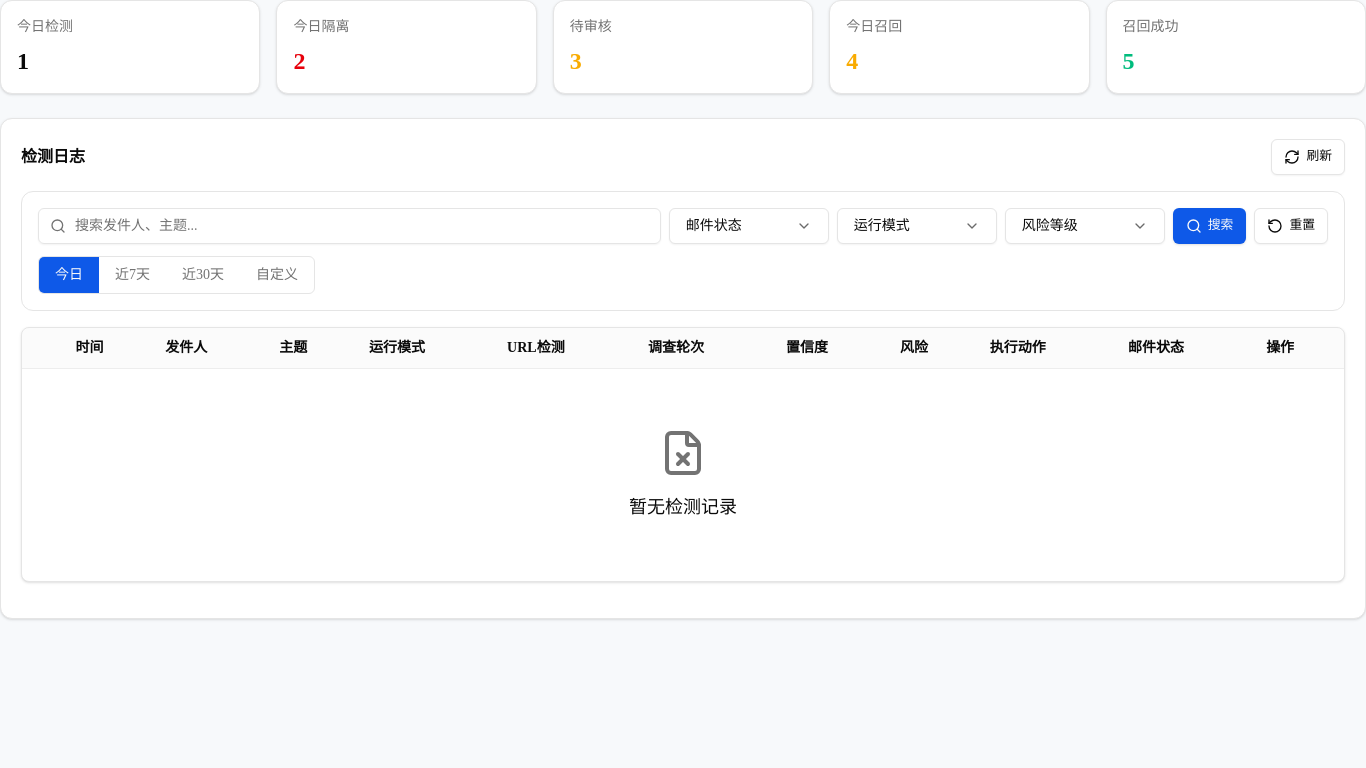
Test: PhishingOverviewPage › filters undecided risks alongside known levels and clears them on reset
Click the button "风险等级" at (1085, 226), box [1005,208,1165,244]
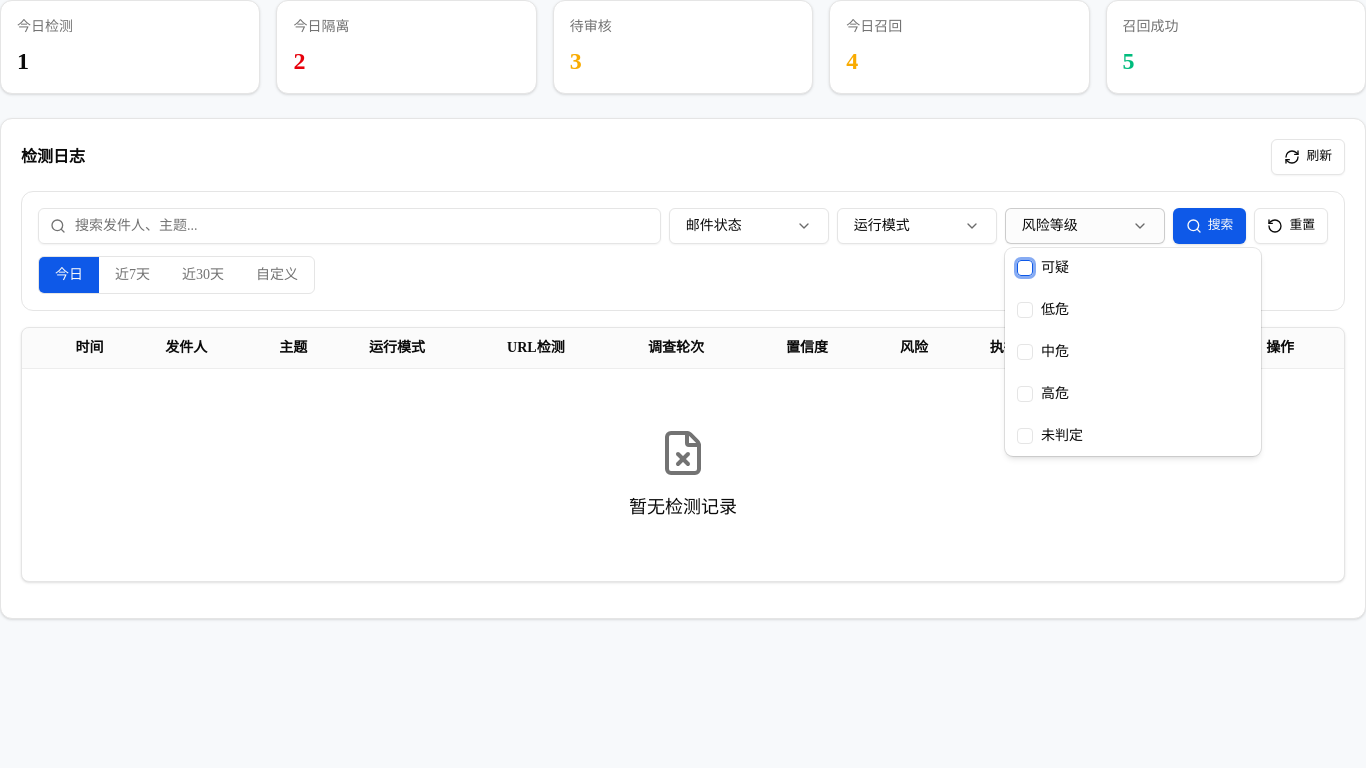
Click the text "未判定" at (1062, 436), box [1041,428,1083,443]
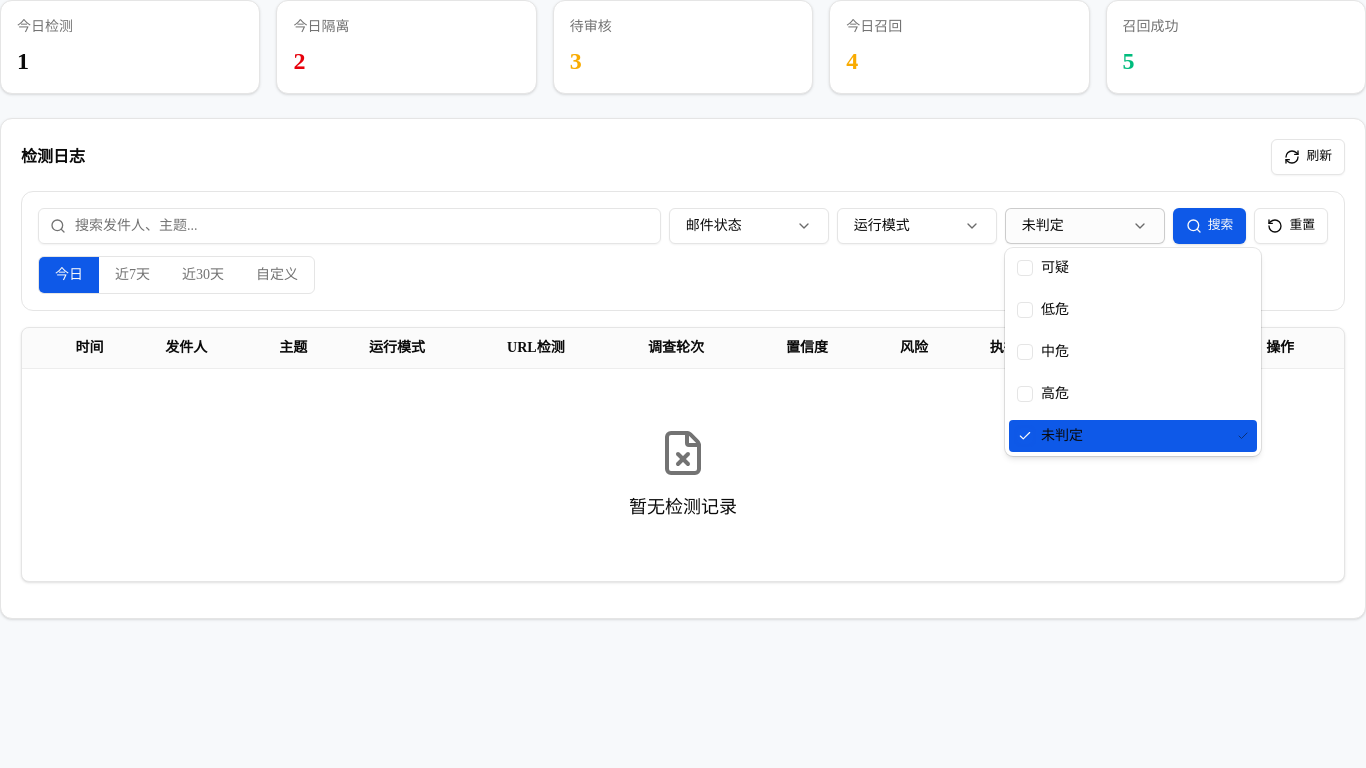
Click the text "高危" at (1055, 394), box [1041,386,1069,401]
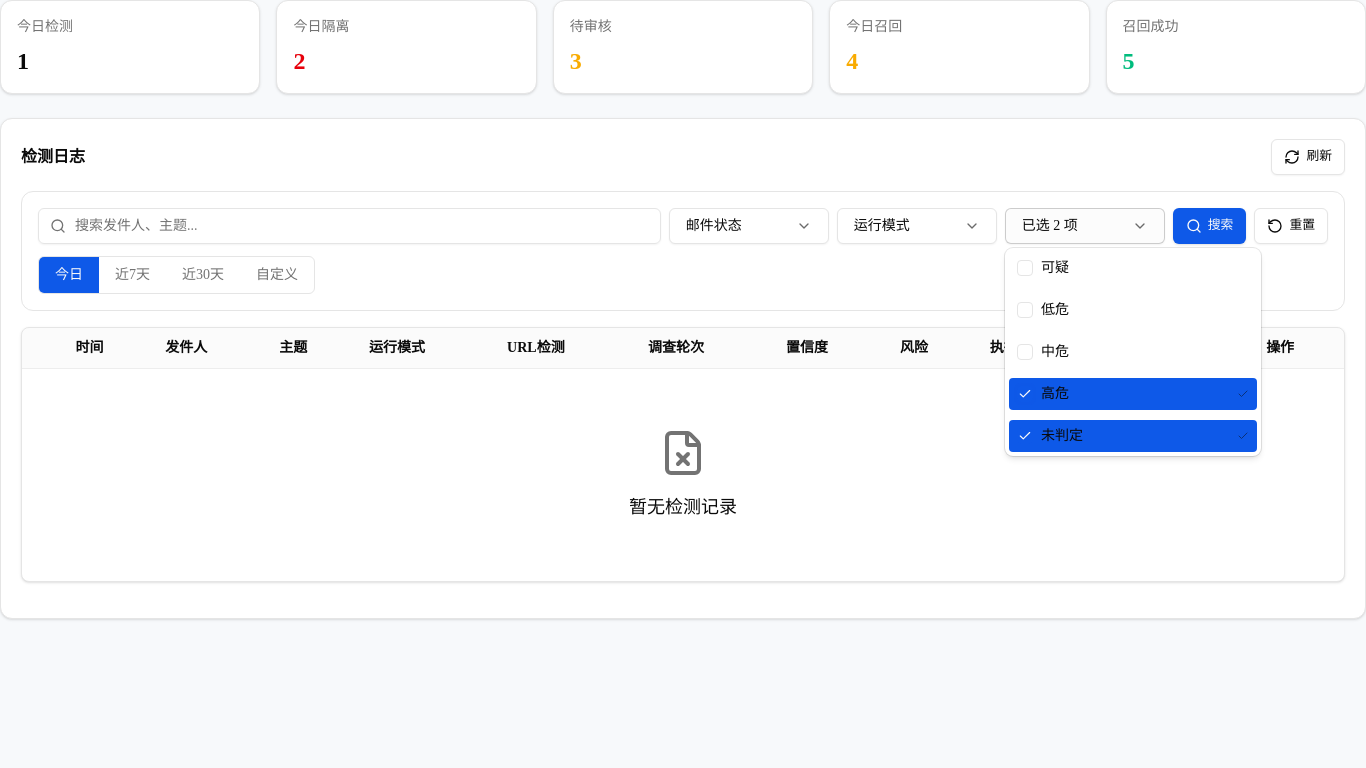
Press Escape
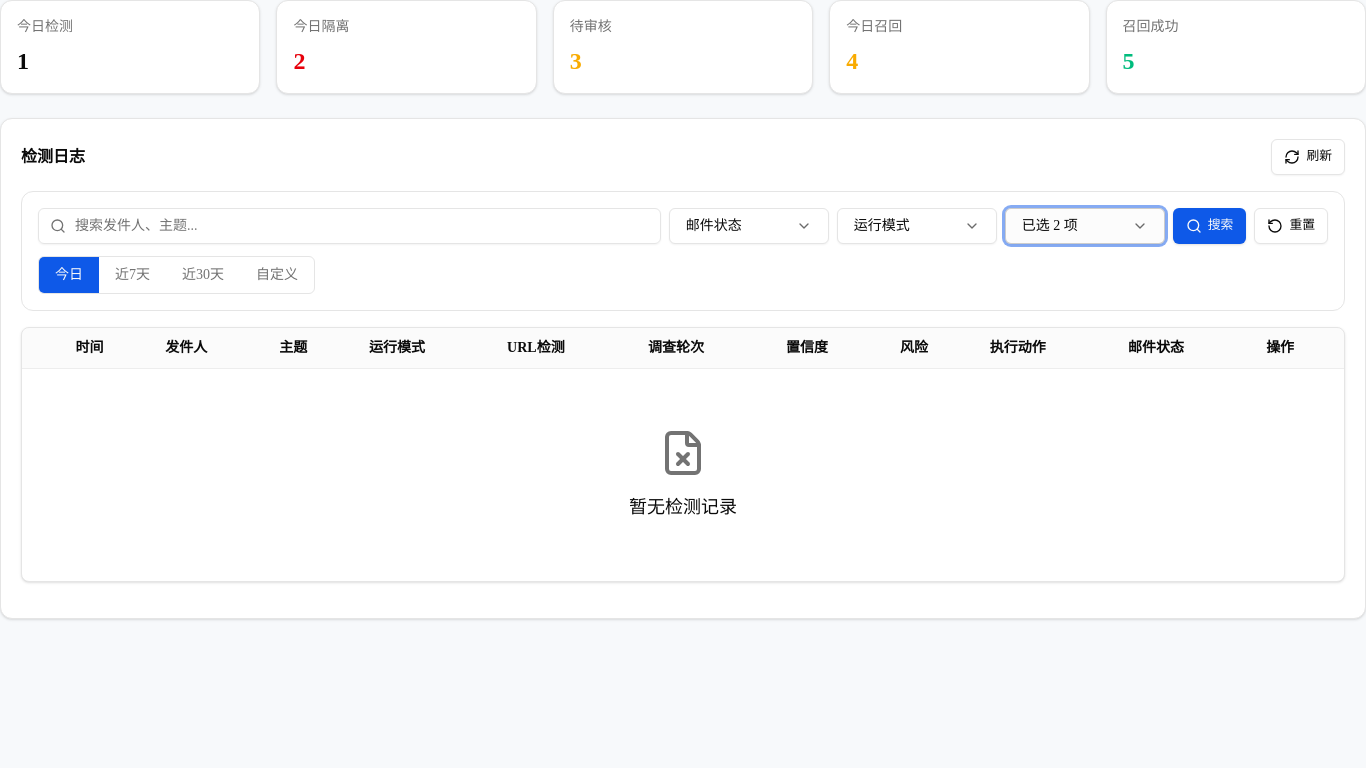
Click the button with test id "phishing-log-filter-reset" at (1291, 226), box [1254,208,1328,244]
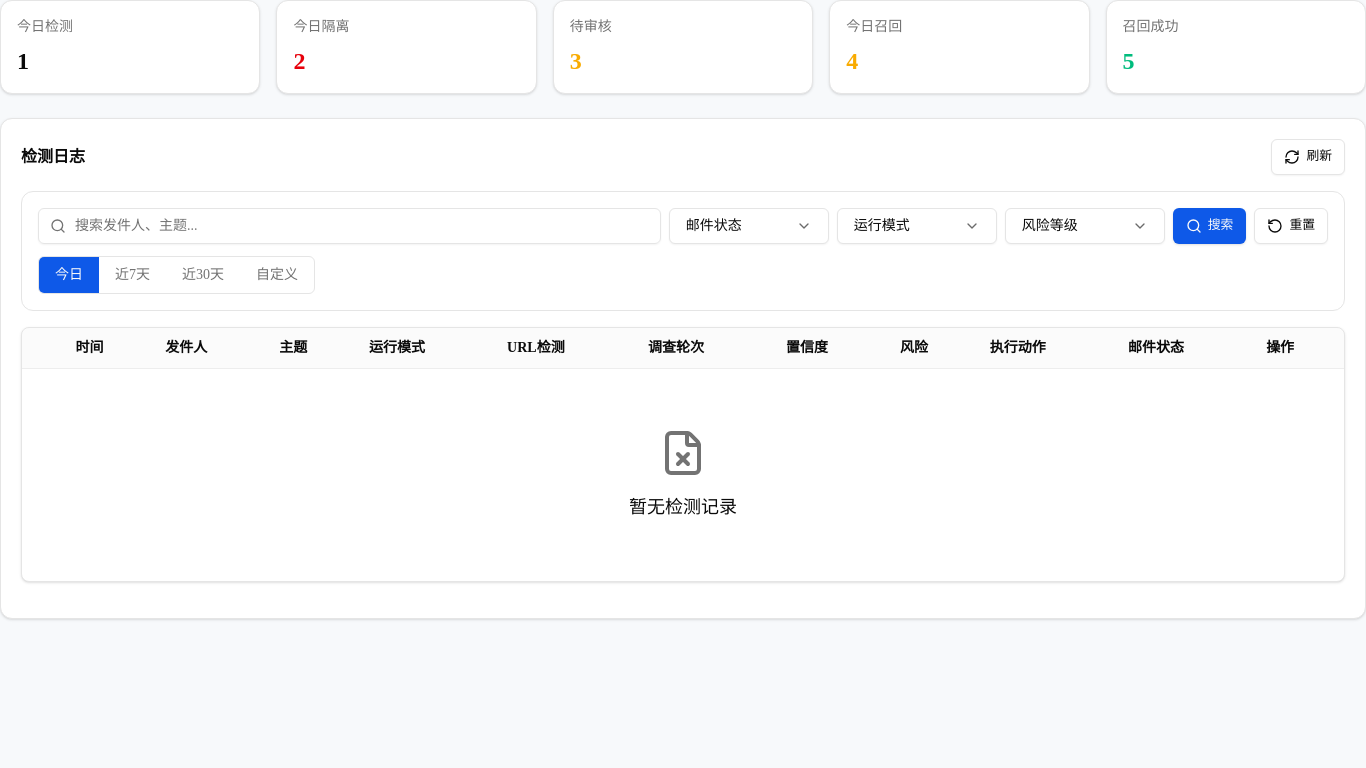
Expected: the button "风险等级" is shown, [1005,208,1165,244]
